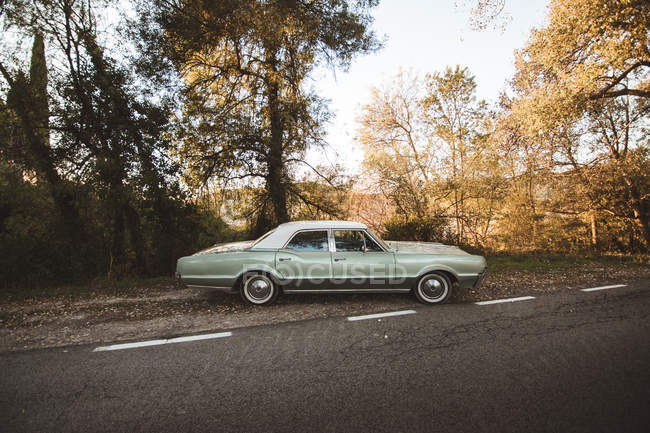car: (174, 217, 488, 316)
